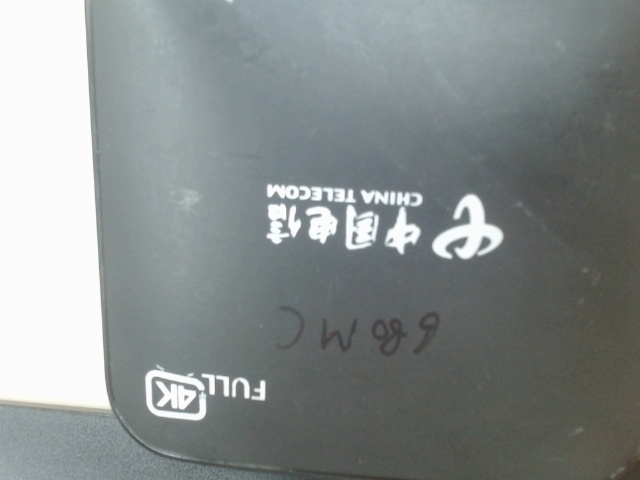AB_ChinaTelecom: (248, 164, 515, 274)
